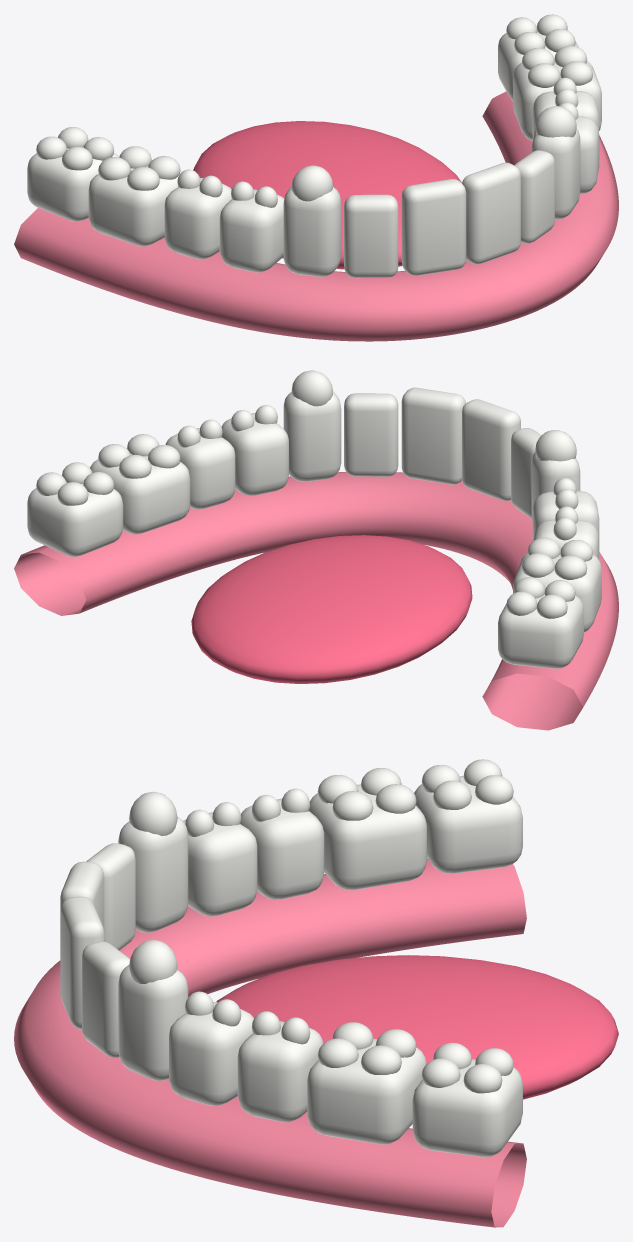
The model's file is jaw_top.glb.
3 views of the same model, one above another, from view 1: azimuth 30°, elevation 25°; view 2: azimuth 150°, elevation 25°; view 3: azimuth 270°, elevation 25° (orthographic). The views are drawn at different scales.
Visible parts, largest first — view 1: gum_lower, tongue, T_lower_f_0a, T_lower_f_0b, T_lower_f_2a, T_lower_r_5a, T_lower_f_1a, T_lower_r_3a, T_lower_r_4a, T_lower_r_6a, T_lower_f_1b, T_lower_f_2b (+22 smaller); view 2: gum_lower, tongue, T_lower_f_0b, T_lower_l_6b, T_lower_f_0a, T_lower_r_6a, T_lower_f_1b, T_lower_f_2b, T_lower_l_5b, T_lower_l_3b, T_lower_l_4b, T_lower_f_1a (+19 smaller); view 3: gum_lower, tongue, T_lower_l_5b, T_lower_r_5a, T_lower_l_6b, T_lower_r_6a, T_lower_l_3b, T_lower_l_4b, T_lower_f_2b, T_lower_r_4a, T_lower_r_3a, T_lower_f_2a (+25 smaller).
Part boxes in pixels (bbox=[...]): gum_lower: bbox=[14, 91, 618, 341]; tongue: bbox=[193, 121, 461, 269]; T_lower_f_0a: bbox=[401, 179, 466, 275]; T_lower_f_0b: bbox=[462, 162, 520, 264]; T_lower_f_2a: bbox=[283, 186, 341, 276]; T_lower_r_5a: bbox=[88, 166, 181, 246]; T_lower_f_1a: bbox=[344, 194, 398, 278]; T_lower_r_3a: bbox=[219, 189, 284, 272]; T_lower_r_4a: bbox=[164, 178, 231, 259]; T_lower_r_6a: bbox=[27, 147, 119, 221]; T_lower_f_1b: bbox=[514, 150, 554, 243]; T_lower_f_2b: bbox=[531, 128, 580, 219]; gum_lower: bbox=[14, 472, 618, 730]; tongue: bbox=[191, 535, 472, 683]; T_lower_f_0b: bbox=[401, 387, 465, 484]; T_lower_l_6b: bbox=[27, 482, 123, 556]; T_lower_f_0a: bbox=[462, 399, 520, 500]; T_lower_r_6a: bbox=[498, 592, 583, 668]; T_lower_f_1b: bbox=[344, 393, 398, 476]; T_lower_f_2b: bbox=[283, 391, 341, 481]; T_lower_l_5b: bbox=[90, 454, 190, 534]; T_lower_l_3b: bbox=[221, 412, 288, 495]; T_lower_l_4b: bbox=[165, 428, 235, 509]; T_lower_f_1a: bbox=[511, 428, 541, 518]; gum_lower: bbox=[14, 858, 526, 1227]; tongue: bbox=[216, 955, 618, 1099]; T_lower_l_5b: bbox=[307, 1038, 426, 1144]; T_lower_r_5a: bbox=[309, 784, 426, 890]; T_lower_l_6b: bbox=[412, 1059, 522, 1157]; T_lower_r_6a: bbox=[414, 776, 522, 873]; T_lower_l_3b: bbox=[169, 1002, 253, 1105]; T_lower_l_4b: bbox=[237, 1021, 323, 1122]; T_lower_f_2b: bbox=[118, 965, 188, 1080]; T_lower_r_4a: bbox=[240, 798, 324, 899]; T_lower_r_3a: bbox=[183, 812, 257, 916]; T_lower_f_2a: bbox=[118, 816, 188, 932].
Bounding box in the file's own units: 3.03 × 0.837 × 2.24.
